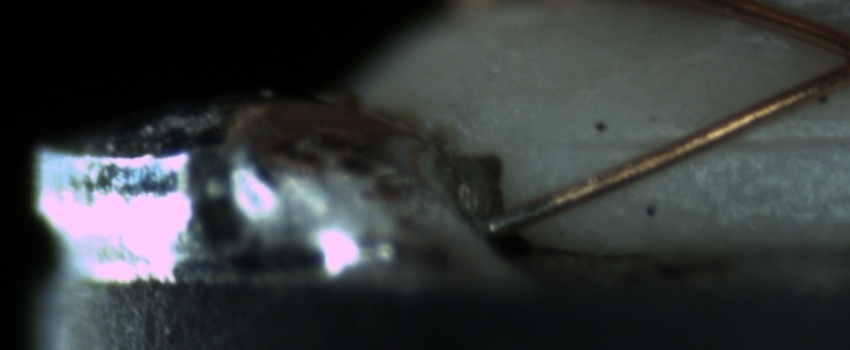DL: (555, 111, 850, 173)
TS: (479, 200, 546, 232)
